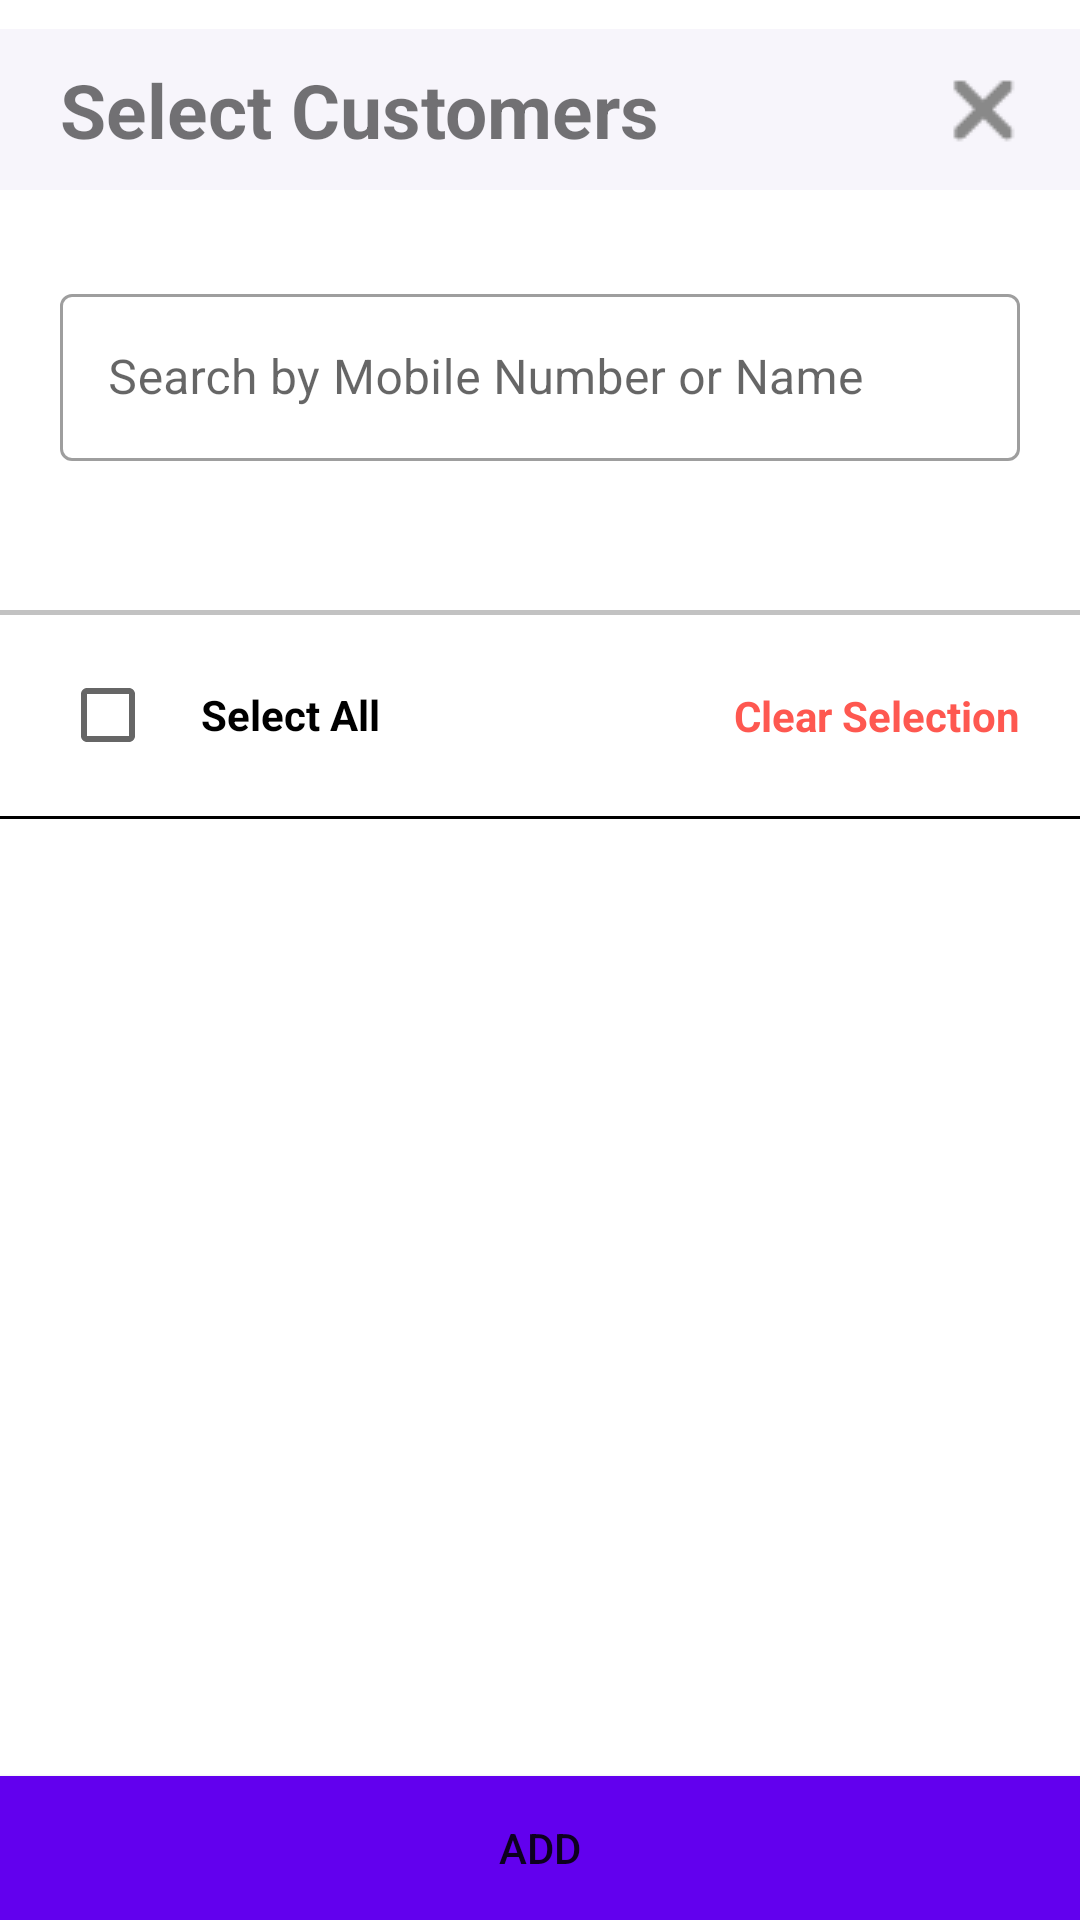

Where to tap for icons on this 1080x1920 app screen, as point (x, y):
cross delete: point (983, 110)
